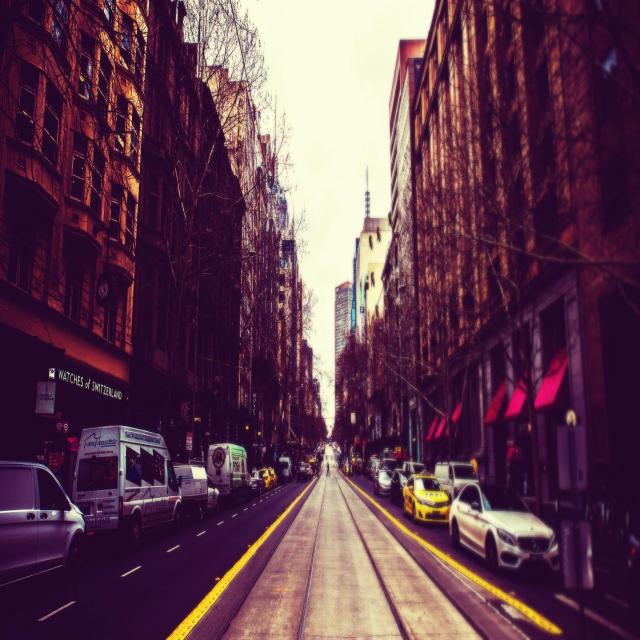airplane: (386, 209, 394, 232), (368, 268, 376, 288), (367, 230, 374, 250), (389, 278, 396, 298), (374, 224, 380, 243), (383, 291, 389, 310), (388, 247, 394, 266), (400, 302, 407, 318), (376, 304, 380, 322)
